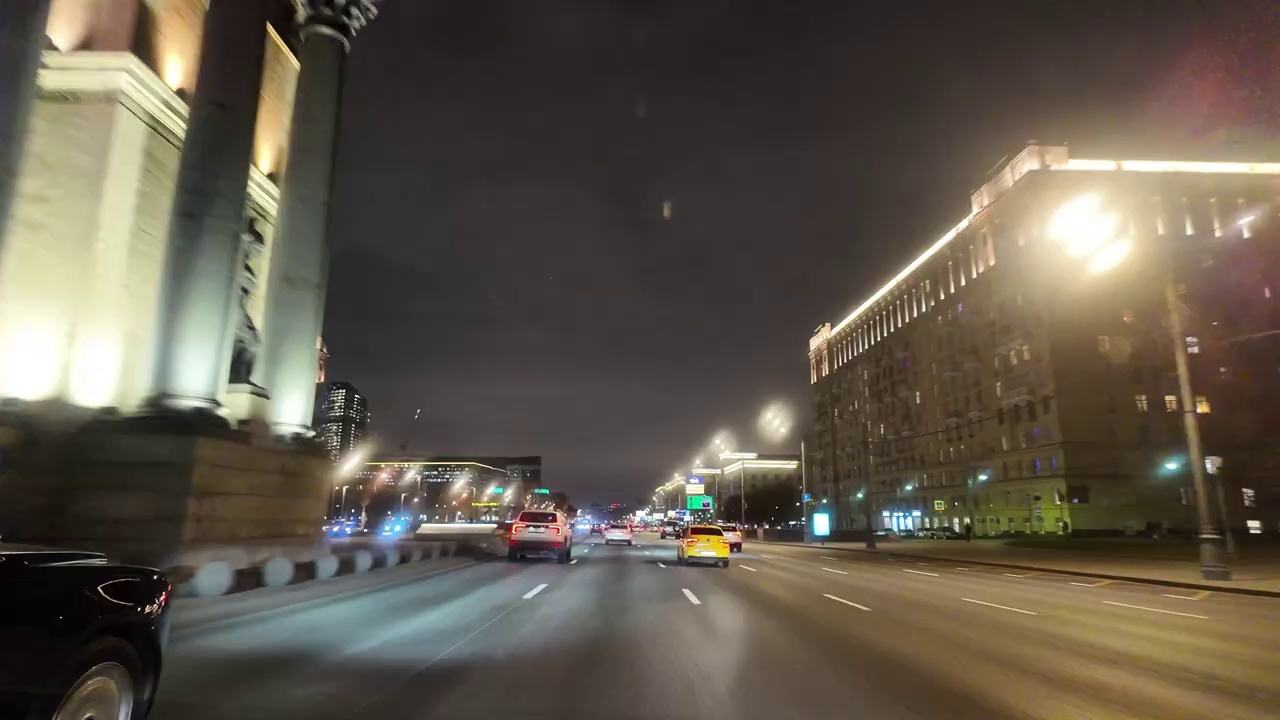acesa: (1035, 187, 1143, 282), (45, 6, 94, 57), (756, 401, 796, 444)
